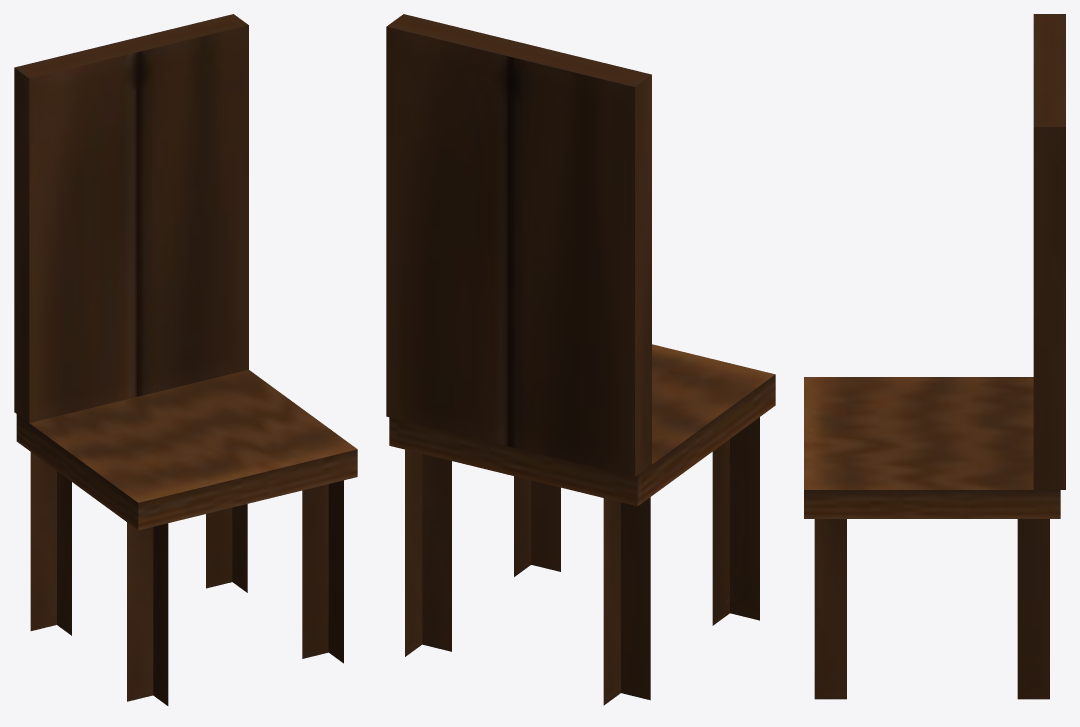
Rendered from oak_chair.glb.
3 renders of one model, left to right at view 1: azimuth 30°, elevation 25°; view 2: azimuth 150°, elevation 25°; view 3: azimuth 270°, elevation 25°, orthographic. The views are drawn at different scales.
Visible parts, largest first — view 1: oak_chair_mesh; view 2: oak_chair_mesh; view 3: oak_chair_mesh.
Part boxes in pixels (left/top/right/bottom): oak_chair_mesh: left=14, top=14, right=357, bottom=705; oak_chair_mesh: left=386, top=14, right=775, bottom=705; oak_chair_mesh: left=804, top=14, right=1065, bottom=699.
Size of the model in its own units: 0.5 by 1.22 by 0.49.
Materials: 1 (1 with a texture image).
